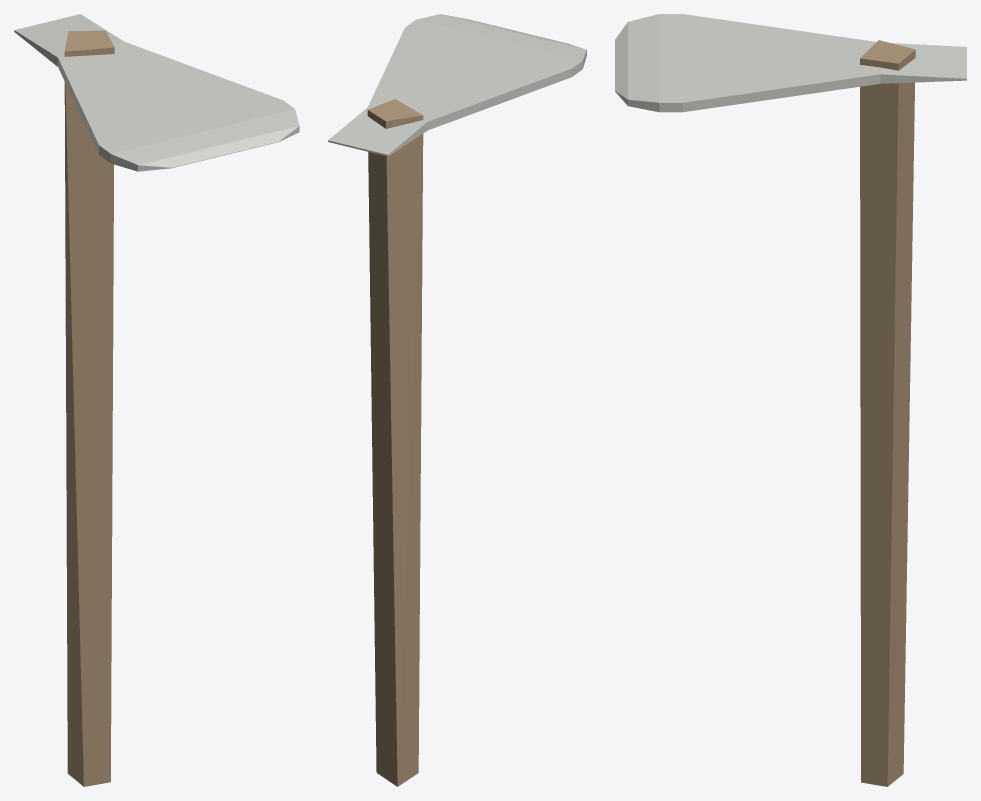
Rendered from StoneHoe.glb.
3 renders of one model, left to right at view 1: azimuth 30°, elevation 25°; view 2: azimuth 150°, elevation 25°; view 3: azimuth 270°, elevation 25°, orthographic. The views are drawn at different scales.
Parts seen in each view (by area): view 1: Cylinder.009, Cube.021; view 2: Cylinder.009, Cube.021; view 3: Cylinder.009, Cube.021.
Boxes of the visible parts, left/top/right/bottom form: Cylinder.009: left=64, top=30, right=114, bottom=786; Cube.021: left=14, top=14, right=299, bottom=171; Cylinder.009: left=367, top=99, right=423, bottom=786; Cube.021: left=328, top=14, right=586, bottom=156; Cylinder.009: left=860, top=40, right=915, bottom=786; Cube.021: left=615, top=14, right=966, bottom=112.
Size of the model in its own units: 0.2362 by 0.902 by 0.3952.
